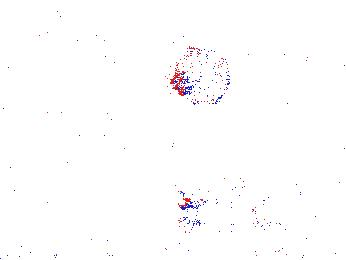flame jellyfish: (176, 163, 247, 213), (171, 52, 232, 107), (251, 174, 304, 224)
